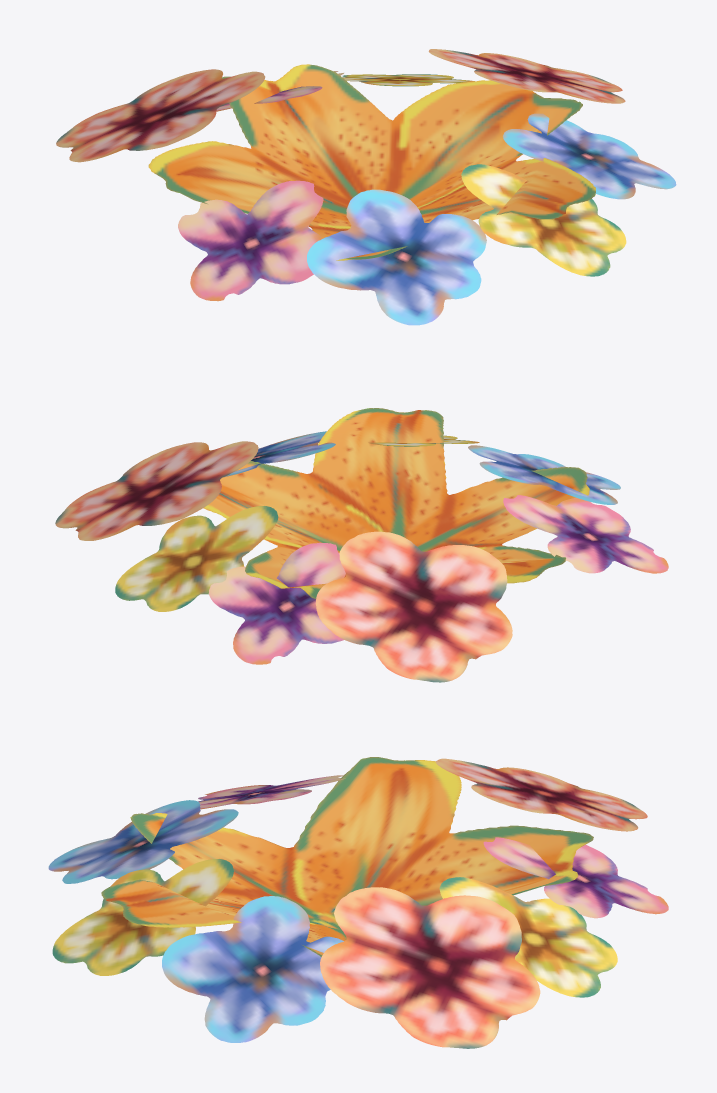
The model's file is FlowerBunch1.fbx.
The picture shows the model from 3 angles, top to bottom: view 1: azimuth 30°, elevation 25°; view 2: azimuth 150°, elevation 25°; view 3: azimuth 270°, elevation 25°; orthographic projection. The views are drawn at different scales.
Parts seen in each view (by area): view 1: Flower1, Flower9, Flower2, Flower3, Flower8, Flower4, Flower7, Flower5, Flower6; view 2: Flower1, Flower3, Flower7, Flower6, Flower5, Flower2, Flower9, Flower4; view 3: Flower1, Flower7, Flower4, Flower5, Flower8, Flower9, Flower3, Flower6, Flower2.
Boxes of the visible parts, bbox=[...] form: Flower1: bbox=[148, 64, 595, 260]; Flower9: bbox=[307, 189, 486, 325]; Flower2: bbox=[178, 180, 323, 301]; Flower3: bbox=[56, 69, 265, 162]; Flower8: bbox=[461, 164, 626, 276]; Flower4: bbox=[503, 113, 676, 199]; Flower7: bbox=[428, 49, 625, 103]; Flower5: bbox=[342, 74, 474, 86]; Flower6: bbox=[216, 71, 343, 111]; Flower1: bbox=[203, 408, 589, 598]; Flower3: bbox=[315, 531, 512, 682]; Flower7: bbox=[55, 441, 258, 540]; Flower6: bbox=[208, 542, 345, 664]; Flower5: bbox=[115, 506, 278, 611]; Flower2: bbox=[503, 495, 668, 573]; Flower9: bbox=[468, 445, 620, 504]; Flower4: bbox=[224, 431, 335, 477]; Flower1: bbox=[101, 757, 593, 956]; Flower7: bbox=[320, 887, 540, 1048]; Flower4: bbox=[162, 896, 343, 1042]; Flower5: bbox=[439, 877, 617, 997]; Flower8: bbox=[52, 859, 233, 975]; Flower9: bbox=[48, 800, 238, 883]; Flower3: bbox=[436, 758, 647, 831]; Flower6: bbox=[483, 837, 668, 918]; Flower2: bbox=[198, 775, 345, 809].
Size of the model in its own units: 1.37 by 0.2725 by 1.36.
